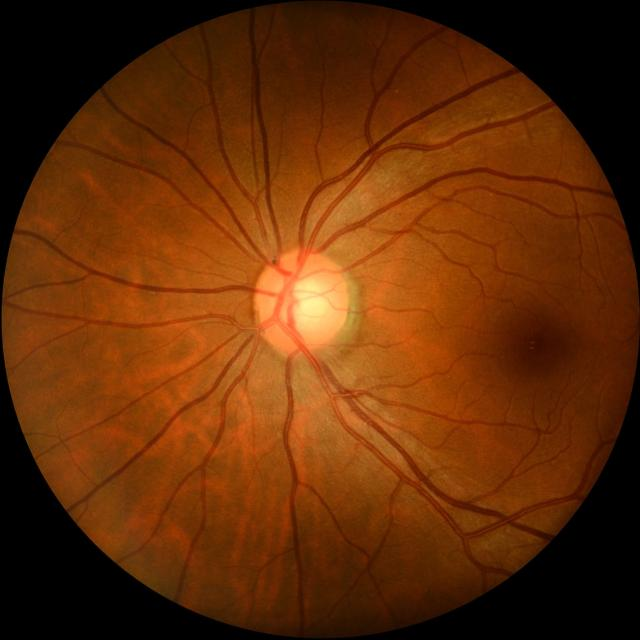OC: (282, 277, 327, 329)
OD: (254, 248, 348, 352)
